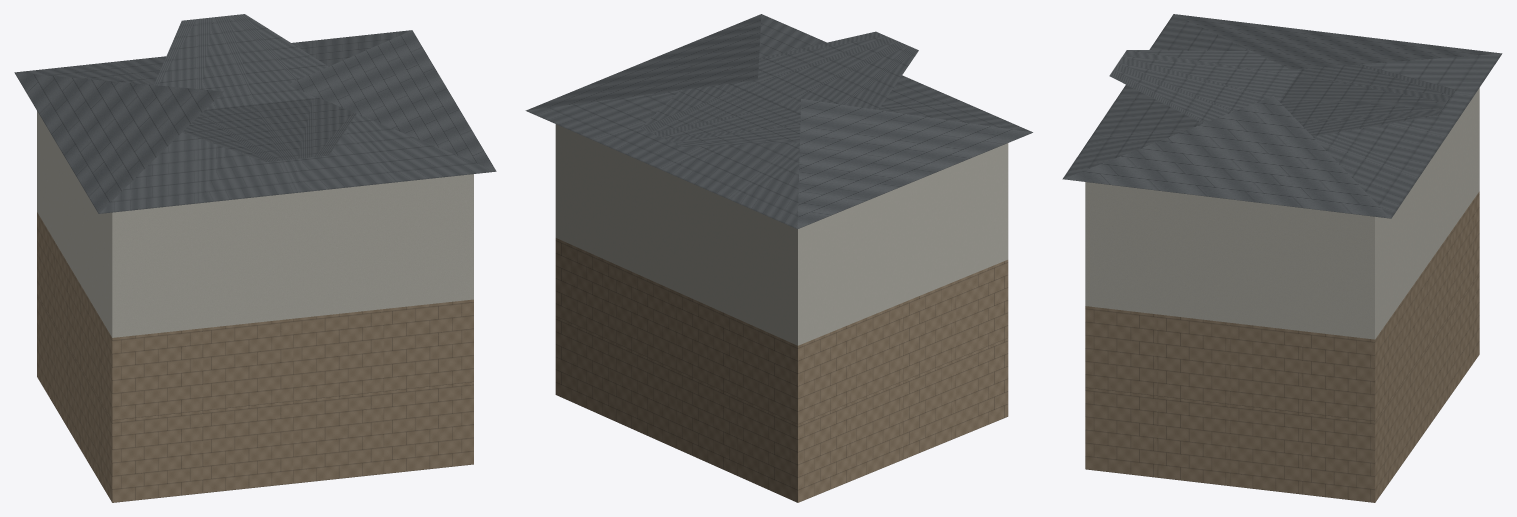
The model's file is bld_c8_8_498.gltf.
The picture shows the model from 3 angles, left to right: view 1: azimuth 30°, elevation 25°; view 2: azimuth 150°, elevation 25°; view 3: azimuth 270°, elevation 25°; orthographic projection. The views are drawn at different scales.
Visible parts, largest first — view 1: bld_c8_8_498; view 2: bld_c8_8_498; view 3: bld_c8_8_498.
Part boxes in pixels (x1,y1,x2,y2): bld_c8_8_498: (14,14,496,502); bld_c8_8_498: (525,14,1032,502); bld_c8_8_498: (1062,14,1502,502).
Bounding box in the file's own units: 13.07 × 9.8 × 11.87.
3 materials, 3 textured.
